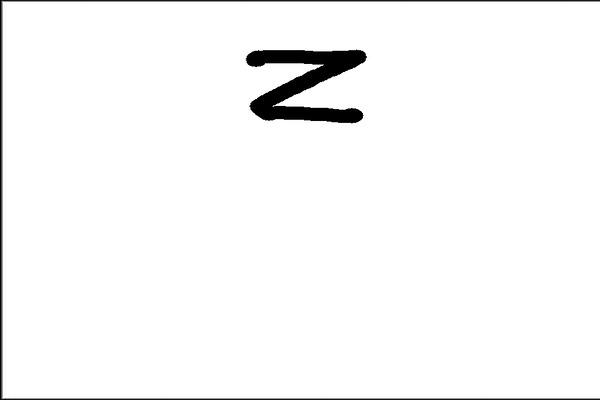Z: (238, 37, 370, 139)
